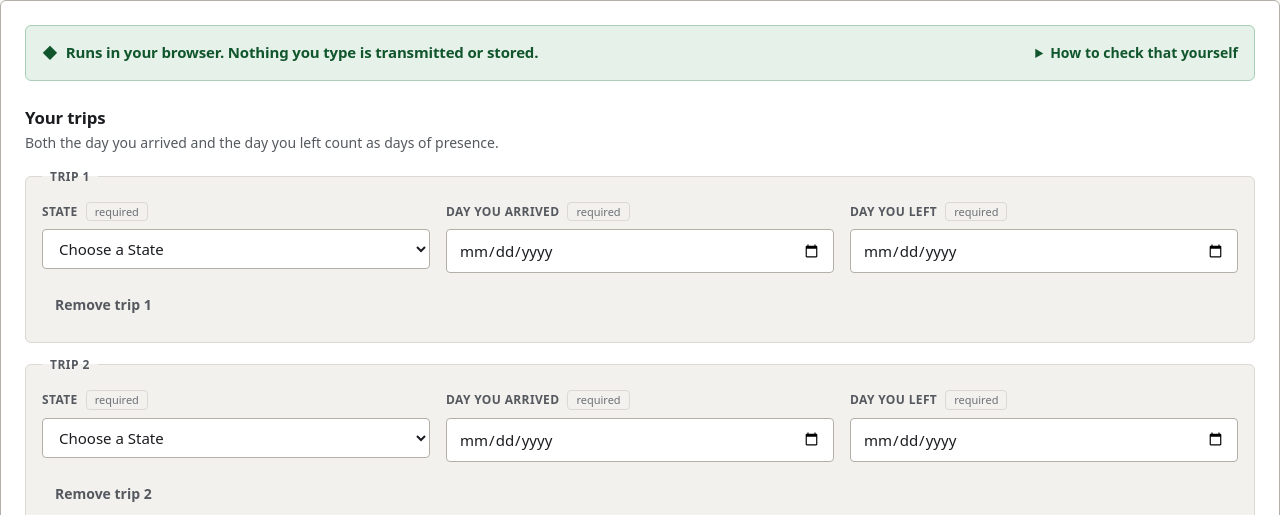
Scenario: the error summary › appears, takes focus, and says what happened
Select "Spain" in the 1st dropdown labelled "State required": (236,249) [42,229,430,269]
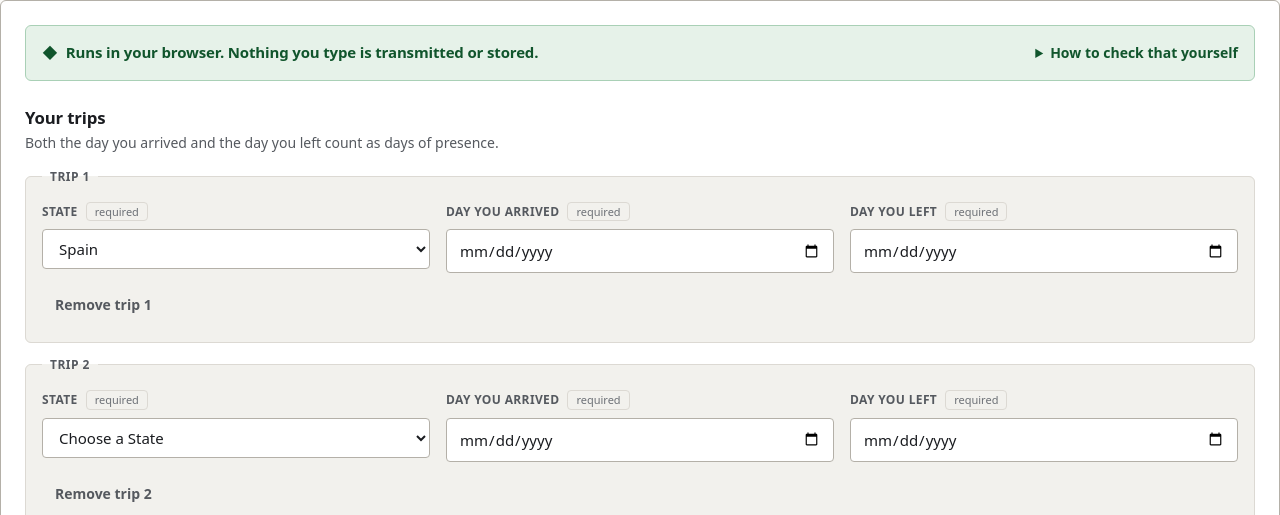
In the 1st date field labelled "Day you arrived required": (640,251) [446,229,834,273], type "2026-07-25"
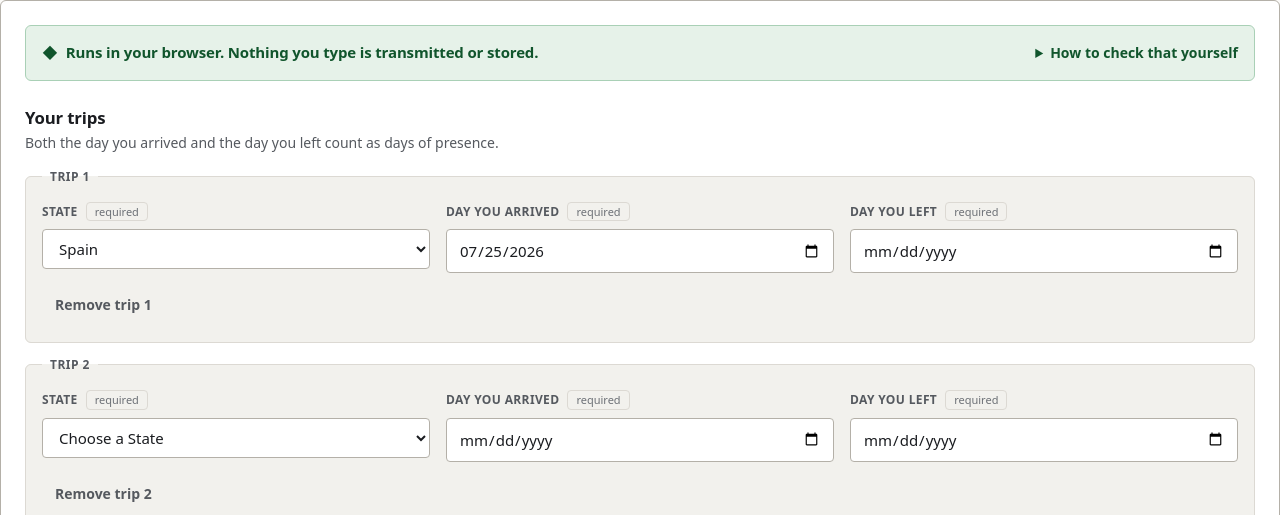
In the 1st date field labelled "Day you left required": (1044,251) [850,229,1238,273], type "2026-07-01"
(page scrolled)
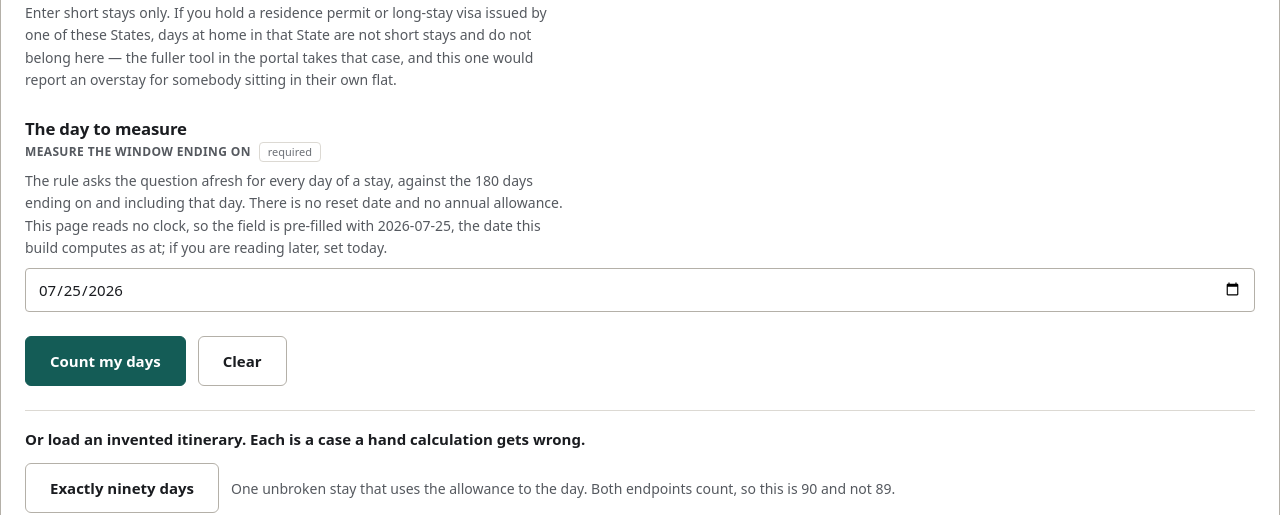
Click the button "Count my days": (105,360) [25,336,186,386]
(page scrolled)
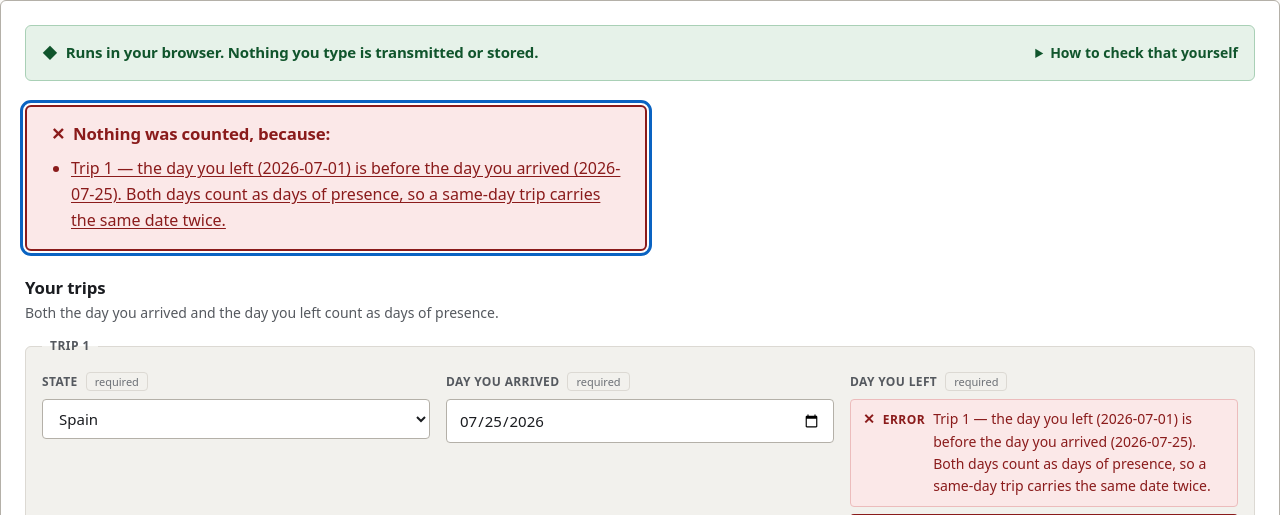
Check: the message shows "Nothing was counted, because:", box [73,122,330,145]
